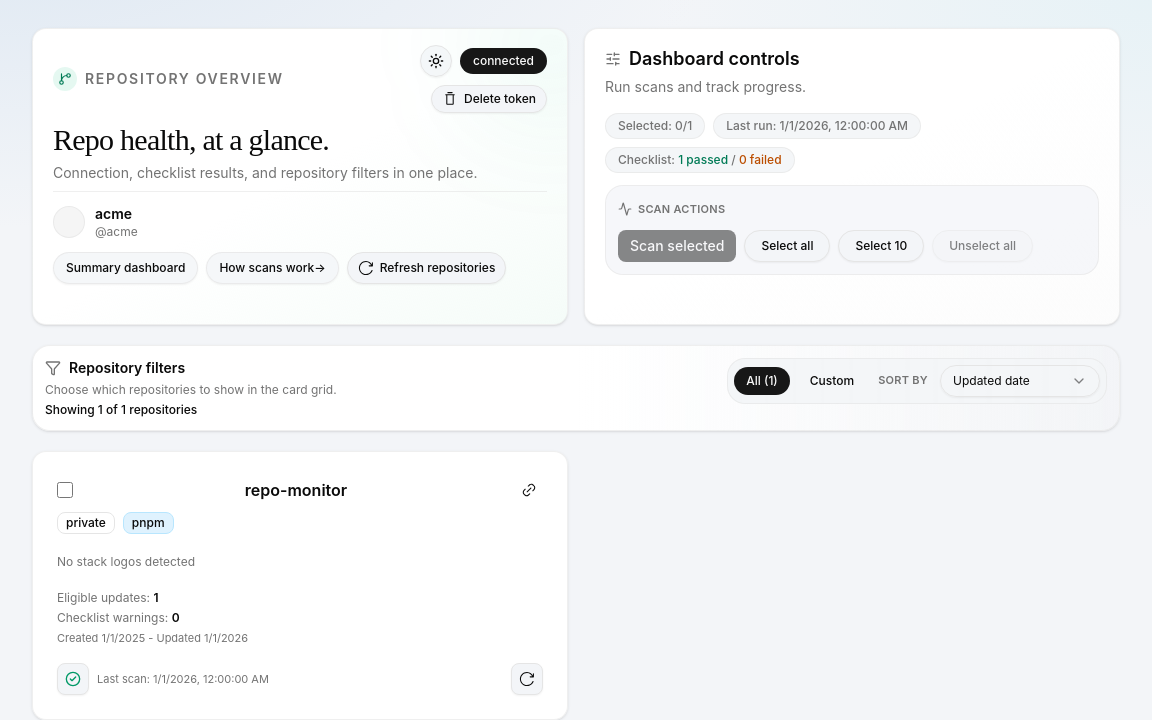
Test: RepoHealthSetup › renders repository card details and status indicators
Expected: the text "repo-monitor" is shown, [245,478,347,502]
Expected: the text "Eligible updates: 1" is shown, [57,590,158,604]
Click the button named "Open details (All good)".
click(73, 679)  # box [57,663,89,695]
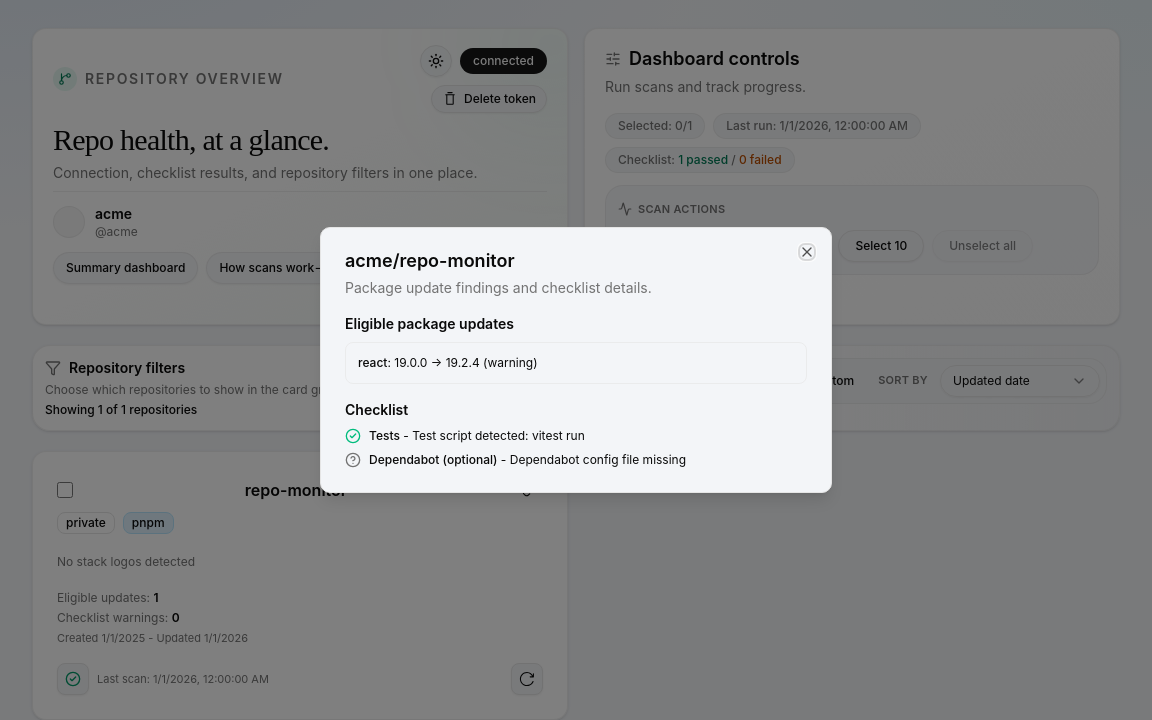
Expected: the text "Package update findings and checklist details." is shown, [345,279,652,296]
Expected: the text "react" is shown, [358,355,387,370]
Expected: the text "Dependabot (optional) - Dependabot config file missing" is shown, [369,452,686,468]
